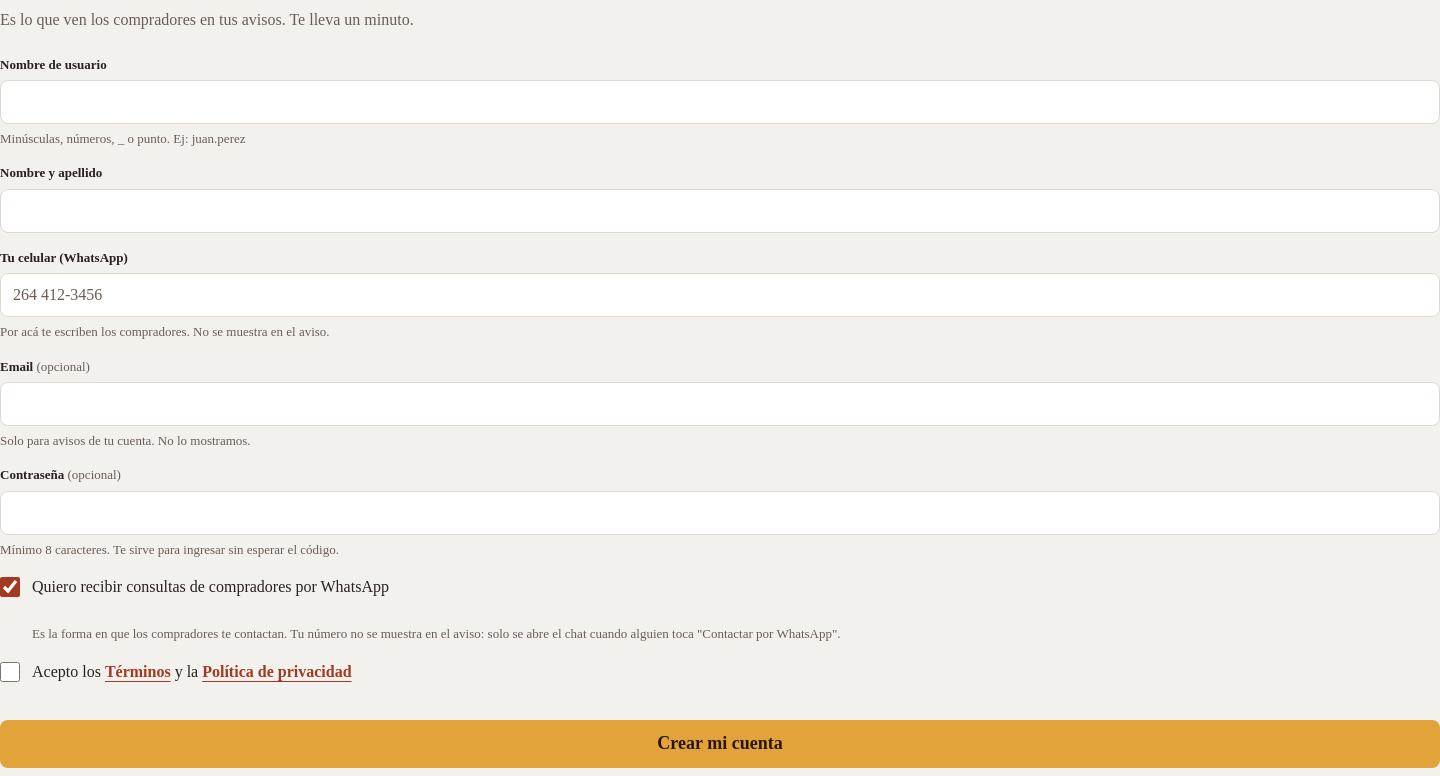
Test case: ProfileStep › lleva el foco al primer campo con error y avisa junto al botón
In the field labelled "Nombre de usuario": (720, 102) [0,80,1439,124], type "jorge"
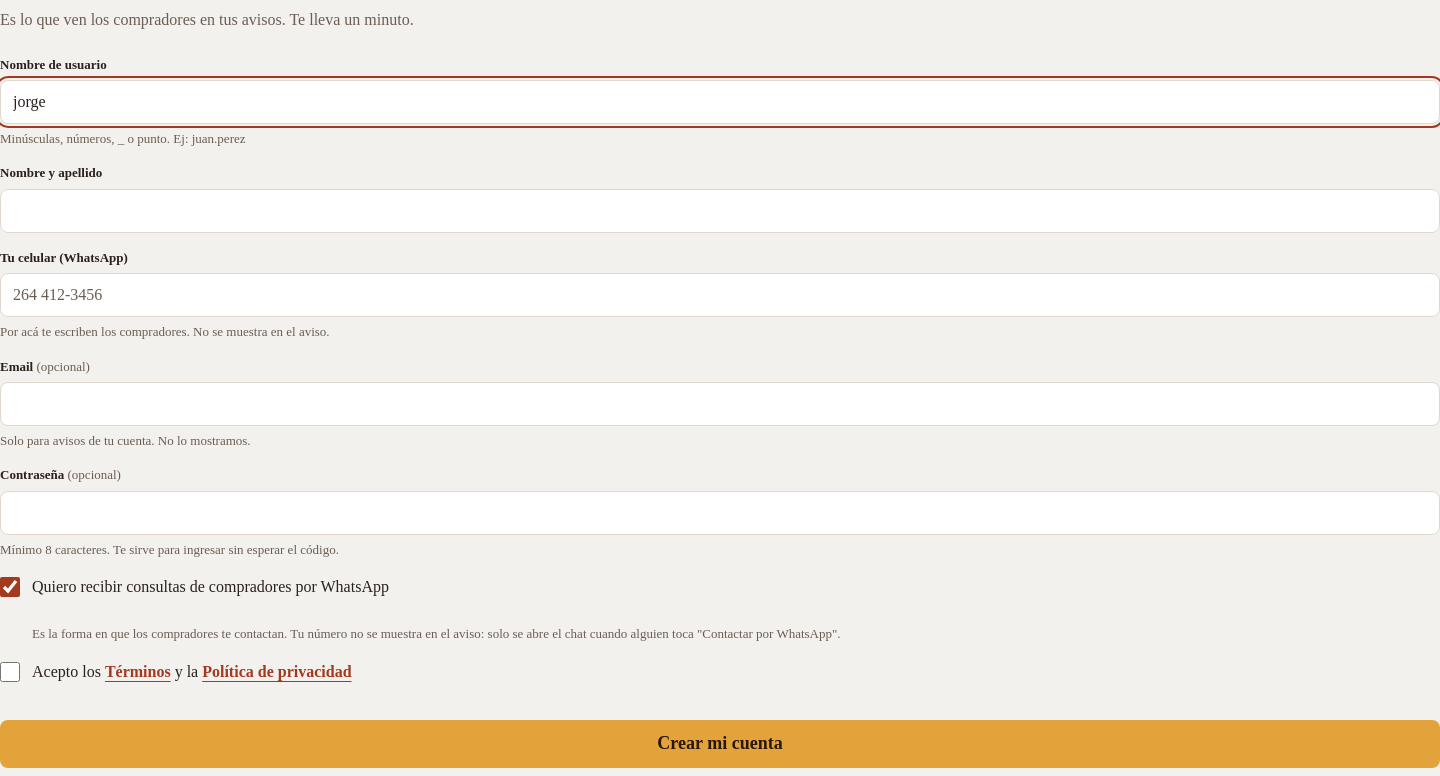
Click the button "Crear mi cuenta": (720, 744) [0,720,1439,768]
(page scrolled)
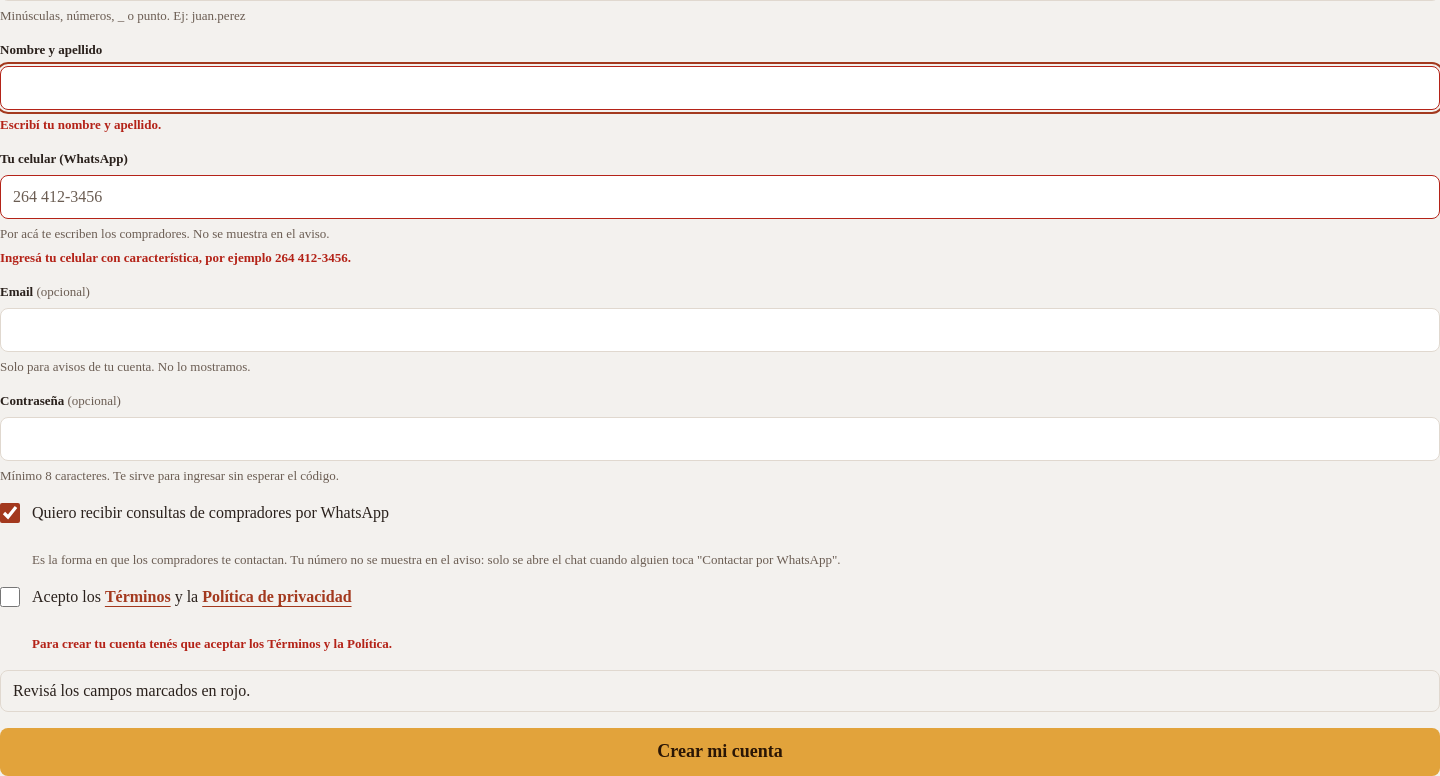
Check: the text "Revisá los campos marcados en rojo." is shown, box [0,670,1439,712]
